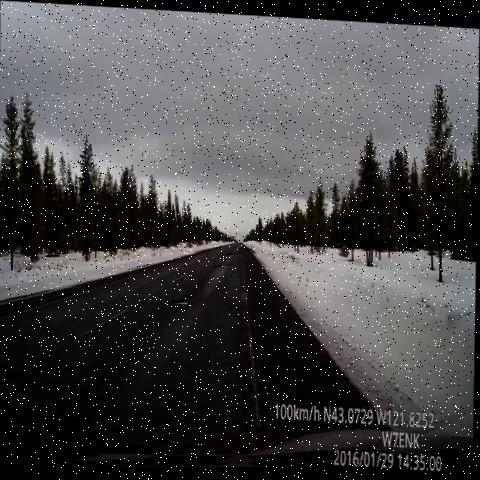pothole: (169, 286, 194, 312), (211, 254, 228, 276), (234, 240, 247, 259), (225, 245, 239, 259)
